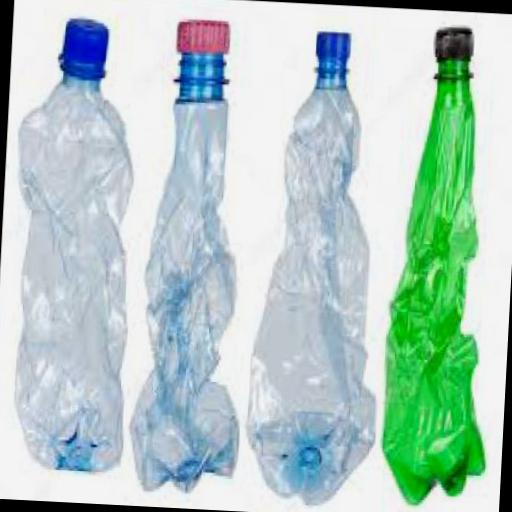plastic: (238, 22, 394, 505), (0, 11, 143, 471), (124, 10, 256, 492), (375, 18, 504, 504), (52, 14, 107, 80), (428, 21, 474, 77), (174, 14, 230, 60), (312, 28, 350, 57)
